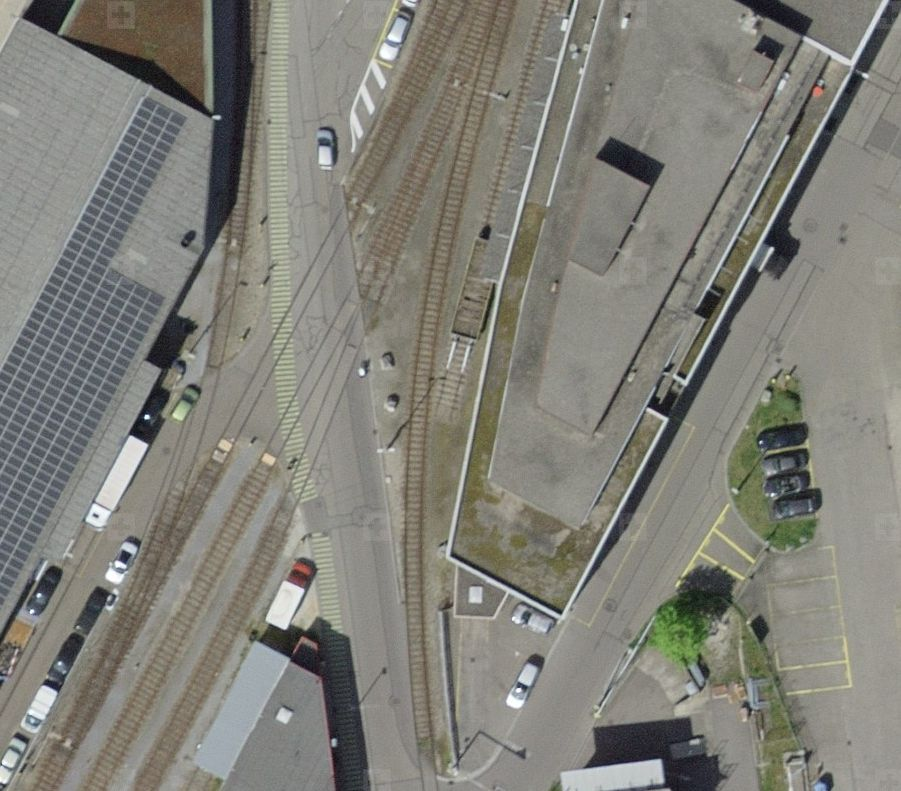solar: (1, 98, 187, 615)
